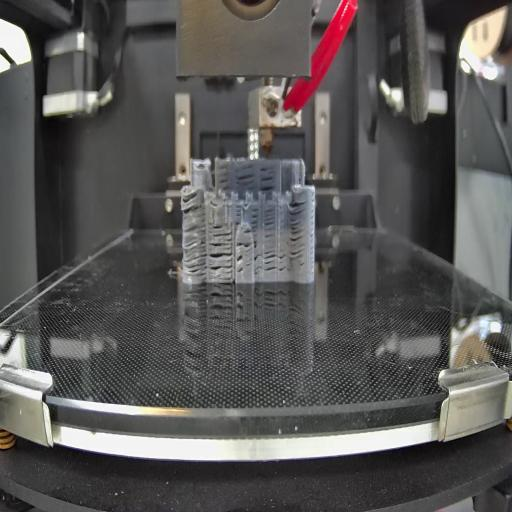cracks: (183, 222, 207, 278), (289, 200, 304, 260), (209, 243, 233, 279), (181, 189, 203, 213), (260, 166, 278, 193), (237, 165, 256, 189), (265, 208, 276, 240), (264, 248, 277, 273), (213, 224, 232, 241), (220, 168, 233, 190), (278, 249, 287, 273), (234, 204, 243, 226), (251, 206, 259, 230), (236, 240, 258, 248), (254, 254, 262, 274), (238, 252, 243, 276), (244, 228, 252, 234)
